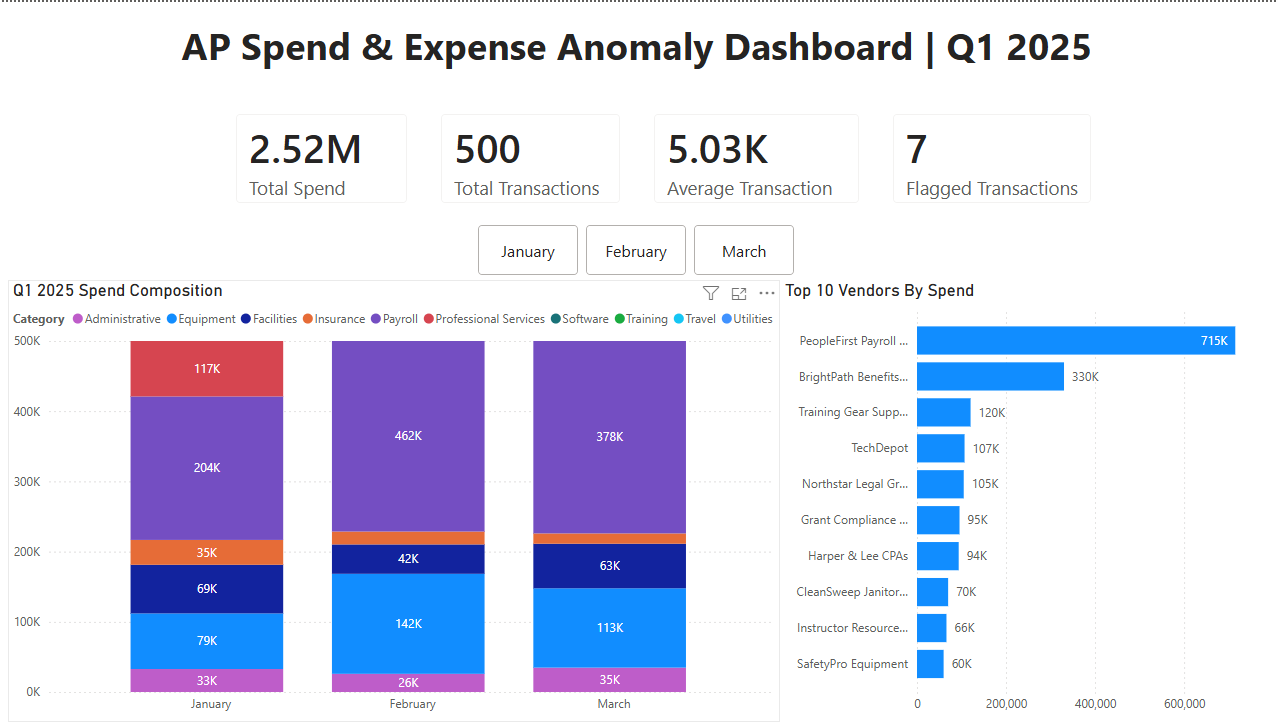

The page's visual inventory and layout, read from the dashboard file:
{"tool":"powerbi","page":{"name":"Page 1","canvas":[1280,720],"ordinal":0},"visuals":[{"type":"cardVisual","fields":{"Data":["APTransactionsTable.Total_Spend"]},"box":[222.5,95.2,204.6,122.5],"z":0},{"type":"cardVisual","fields":{"Data":["APTransactionsTable.Total Transactions"]},"box":[427.1,95.2,212.9,122.5],"z":1000},{"type":"textbox","box":[0,12.6,1280,65.2],"z":2000},{"type":"cardVisual","fields":{"Data":["APTransactionsTable.Average Transaction"]},"box":[640,95.2,239.1,122.5],"z":3000},{"type":"cardVisual","fields":{"Data":["APTransactionsTable.Flagged Transactions"]},"box":[879.1,95.2,232,122.5],"z":4000},{"type":"columnChart","title":"Q1 2025 Spend Composition","fields":{"Category":["APTransactionsTable.Date.Variation.Date Hierarchy.Month"],"Y":["Sum(APTransactionsTable.Amount)"],"Series":["APTransactionsTable.Adjusted Category"]},"box":[10.7,278.4,772,441.3],"z":5000},{"type":"clusteredBarChart","title":"Top 10 Vendors By Spend","fields":{"Category":["APTransactionsTable.Vendor"],"Y":["Sum(APTransactionsTable.Amount)"]},"box":[782.8,278.4,497.2,441.3],"z":6000},{"type":"advancedSlicerVisual","fields":{"Values":["APTransactionsTable.Month"]},"box":[475.8,217.7,328.3,60.7],"z":7000}]}

Visuals, with their boxes in screenshot pixels (x1, y1, x2, y2), scaled from the page's 1280x720 canvas onto the 1277x722 screenshot:
cardVisual - APTransactionsTable.Total_Spend: (222,95,426,218)
cardVisual - APTransactionsTable.Total Transactions: (426,95,638,218)
textbox: (0,13,1276,78)
cardVisual - APTransactionsTable.Average Transaction: (638,95,877,218)
cardVisual - APTransactionsTable.Flagged Transactions: (877,95,1108,218)
"Q1 2025 Spend Composition" columnChart: (11,279,781,721)
"Top 10 Vendors By Spend" clusteredBarChart: (781,279,1276,721)
advancedSlicerVisual - APTransactionsTable.Month: (475,218,802,279)
